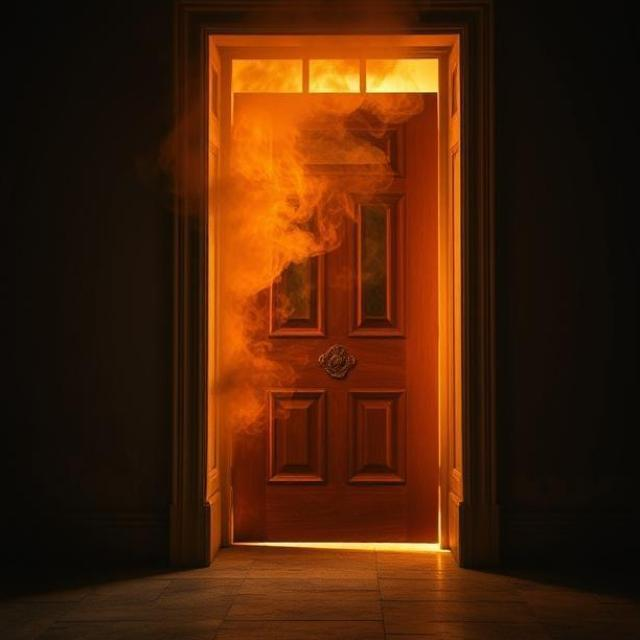fire: (176, 0, 419, 441)
